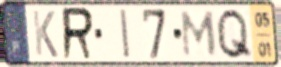7: (141, 7, 168, 61)
I: (118, 7, 133, 61)
K: (31, 8, 60, 60)
M: (180, 9, 218, 59)
Q: (214, 7, 255, 61)
R: (61, 6, 95, 63)
